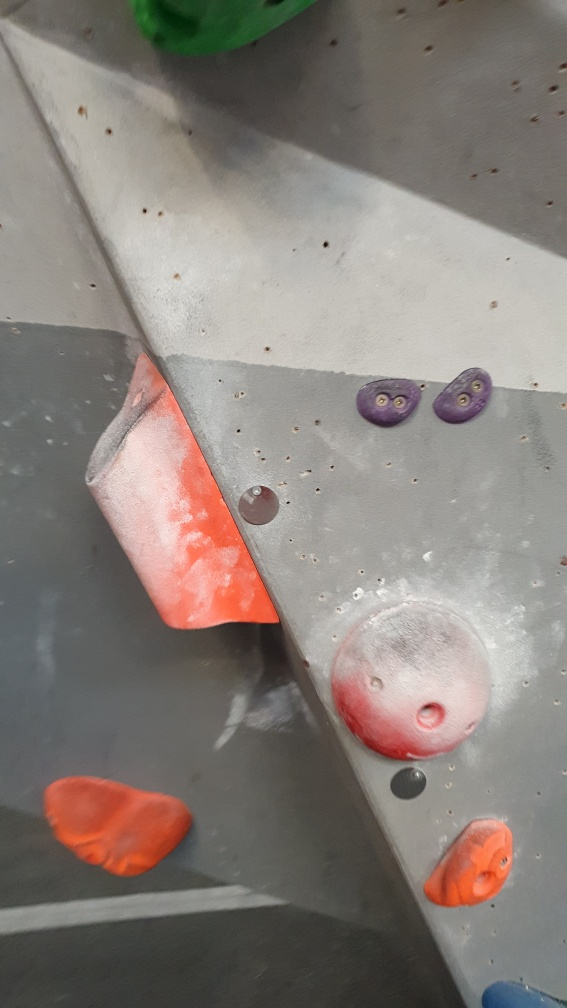Hand Start: (237, 485, 282, 527), (386, 763, 432, 802)
Pinch: (83, 349, 283, 631)
Sloper: (330, 600, 494, 763)
